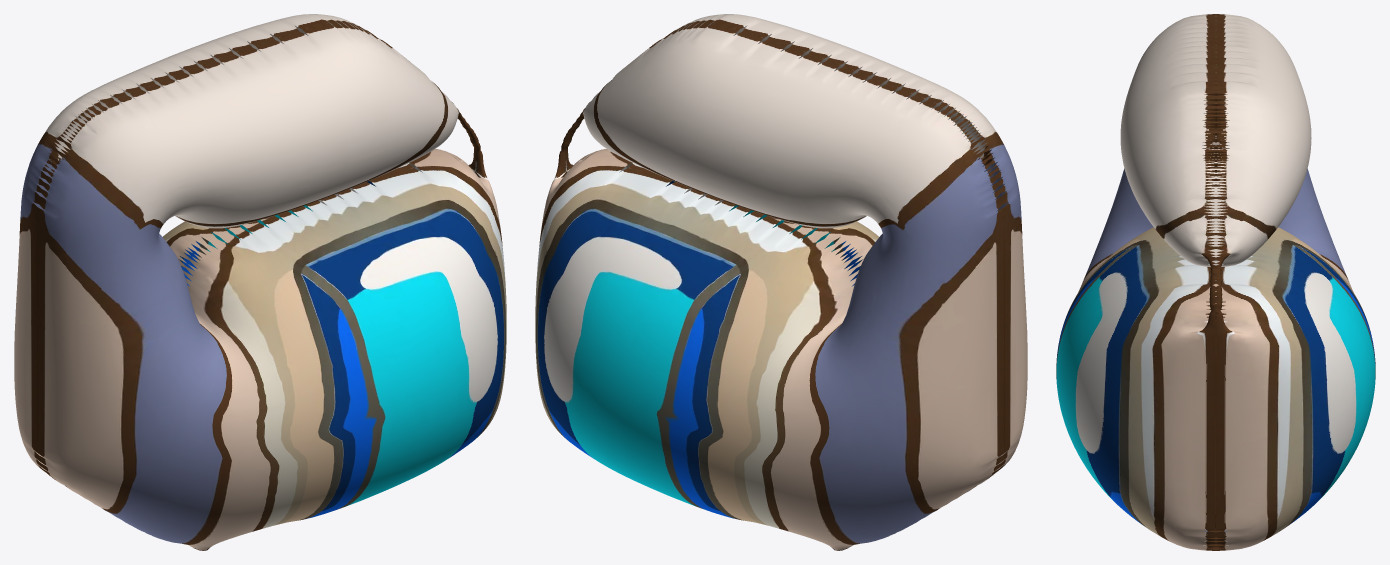
Rendered from blue_hatch_pod.glb.
3 renders of one model, left to right at view 1: azimuth 30°, elevation 25°; view 2: azimuth 150°, elevation 25°; view 3: azimuth 270°, elevation 25°, orthographic. The views are drawn at different scales.
Visible parts, largest first — view 1: blue_hatch_pod; view 2: blue_hatch_pod; view 3: blue_hatch_pod.
Part boxes in pixels (left/top/right/bottom): blue_hatch_pod: left=14, top=14, right=506, bottom=550; blue_hatch_pod: left=535, top=14, right=1027, bottom=550; blue_hatch_pod: left=1056, top=14, right=1375, bottom=550.
Size of the model in its own units: 0.9889 by 0.9989 by 0.6651.
Materials: 1 (1 with a texture image).
